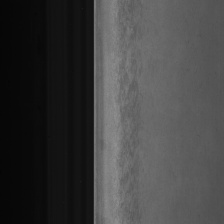silk_spot: (113, 19, 143, 196)
